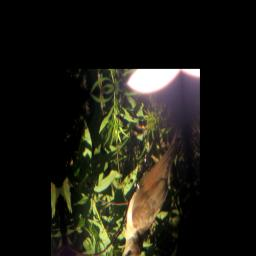Cuckoo: (104, 118, 196, 256)
